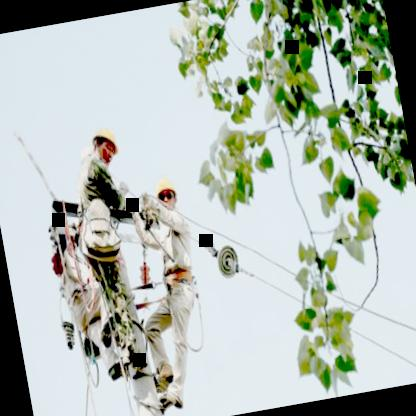helmet: (87, 120, 124, 170), (150, 171, 180, 214)
